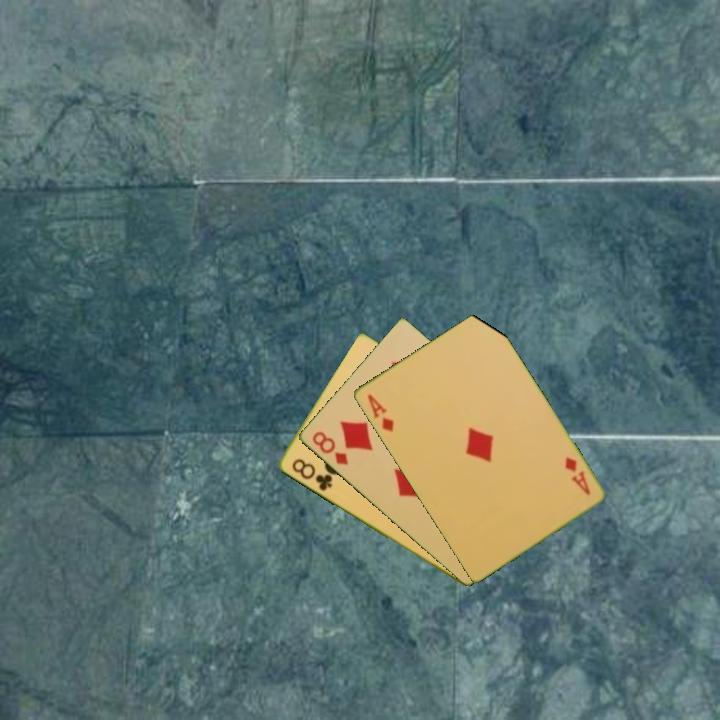8c: (288, 455, 335, 494)
8d: (308, 428, 351, 468)
Ad: (363, 390, 396, 435), (560, 453, 593, 498)
